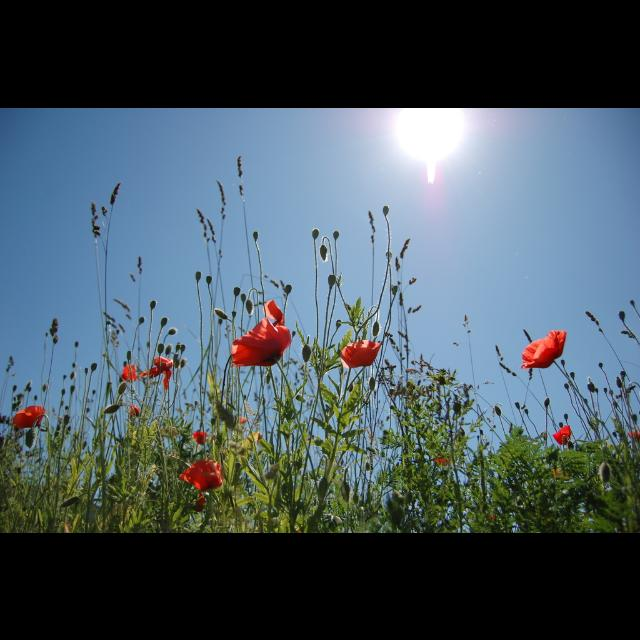Flower: (230, 298, 292, 366), (526, 329, 574, 373), (181, 456, 223, 494), (339, 338, 381, 370), (142, 356, 174, 388), (13, 403, 47, 431), (551, 425, 573, 445), (192, 430, 210, 446), (121, 362, 135, 382), (130, 405, 142, 417), (434, 454, 446, 466), (629, 428, 639, 440)
